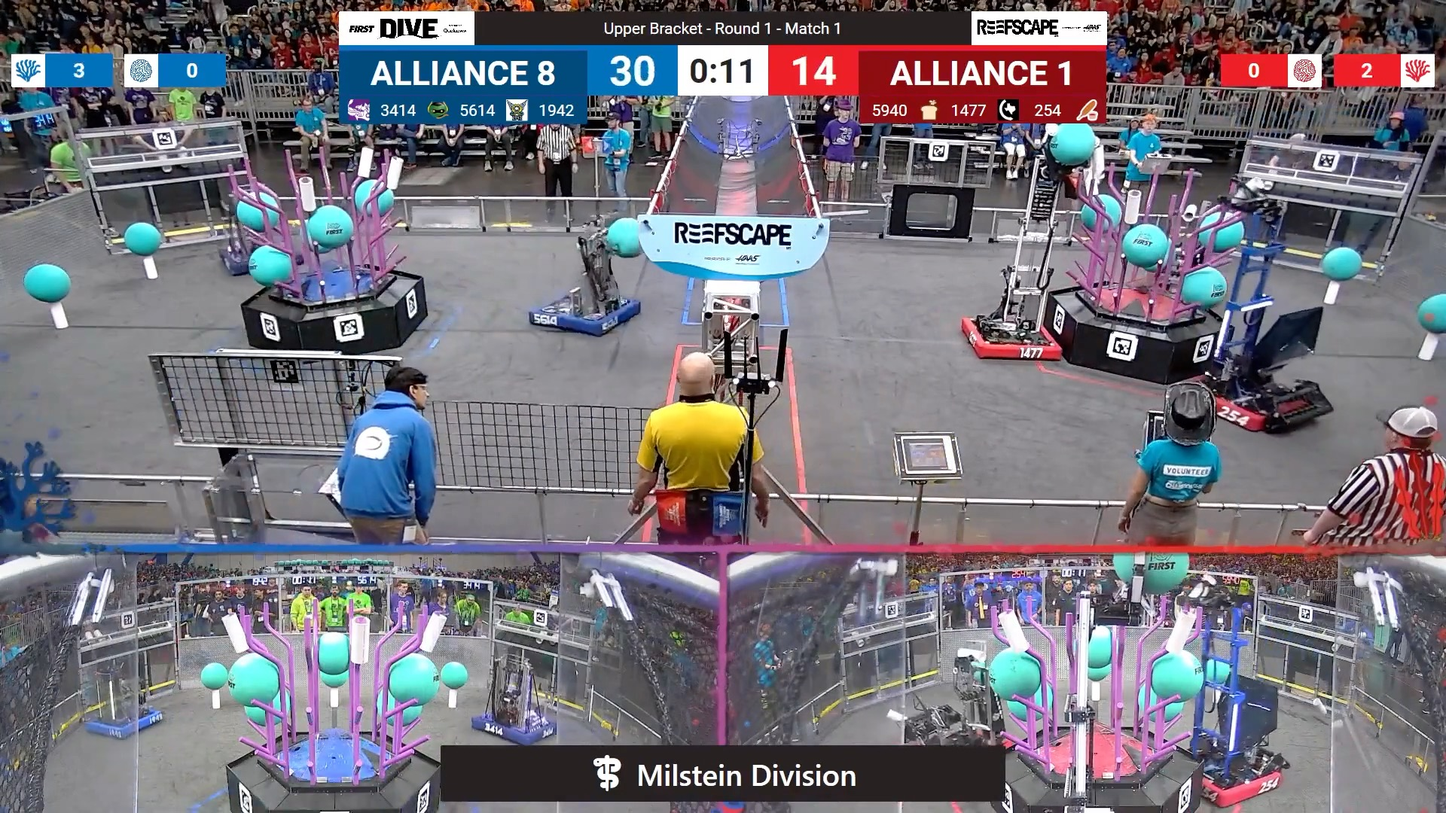bumpers: (1185, 368, 1333, 439), (1167, 737, 1290, 805), (526, 280, 645, 343), (956, 310, 1063, 370), (464, 705, 562, 747), (214, 240, 311, 281), (80, 696, 167, 741)
